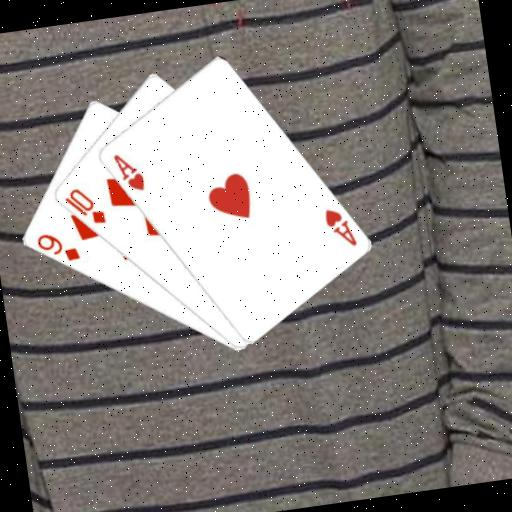10D: (60, 182, 108, 231)
9D: (32, 226, 82, 268)
AH: (320, 202, 360, 252), (109, 147, 147, 196)
